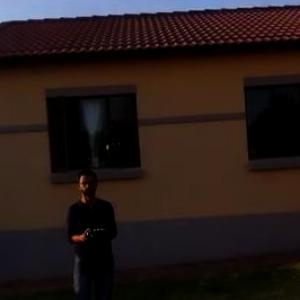follow: (63, 159, 123, 299)
